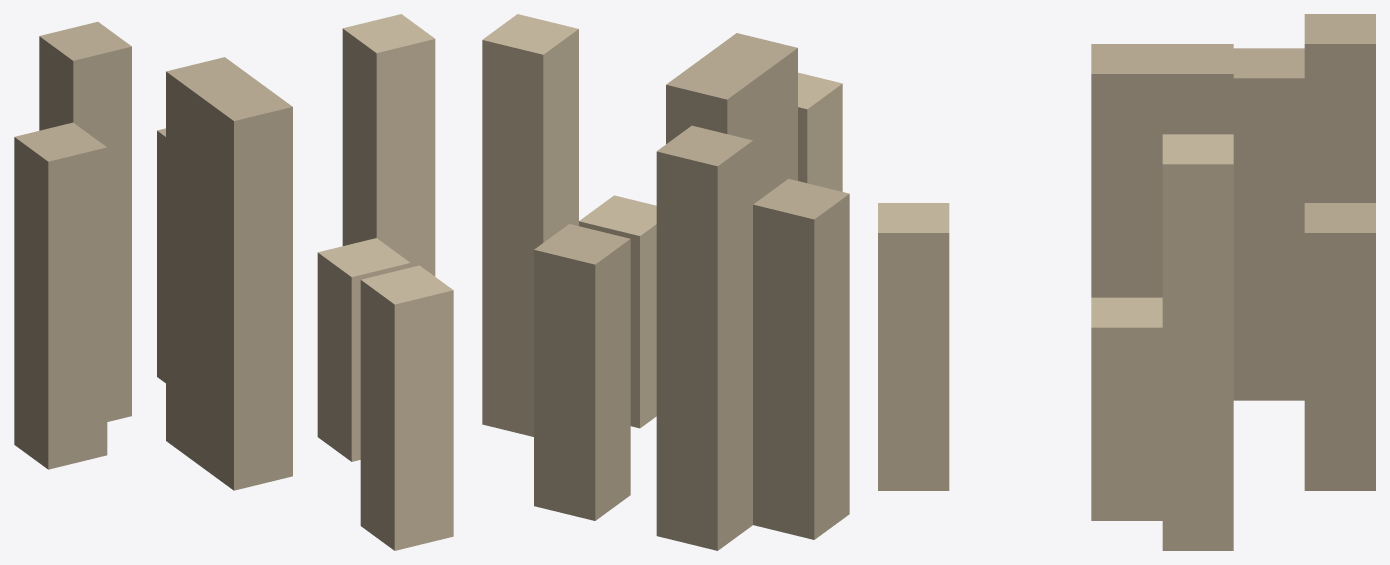
Rendered from cebolla_silvestre_03.glb.
3 views of the same model, side by side, from view 1: azimuth 30°, elevation 25°; view 2: azimuth 150°, elevation 25°; view 3: azimuth 270°, elevation 25° (orthographic). The views are drawn at different scales.
Parts seen in each view (by area): view 1: cebolla_silvestre_03; view 2: cebolla_silvestre_03; view 3: cebolla_silvestre_03.
Part boxes in pixels (x1,y1,x2,y2): cebolla_silvestre_03: (14, 14, 453, 550); cebolla_silvestre_03: (482, 14, 849, 550); cebolla_silvestre_03: (878, 14, 1375, 550).
Bounding box in the file's own units: 0.6 × 0.6 × 0.7.
